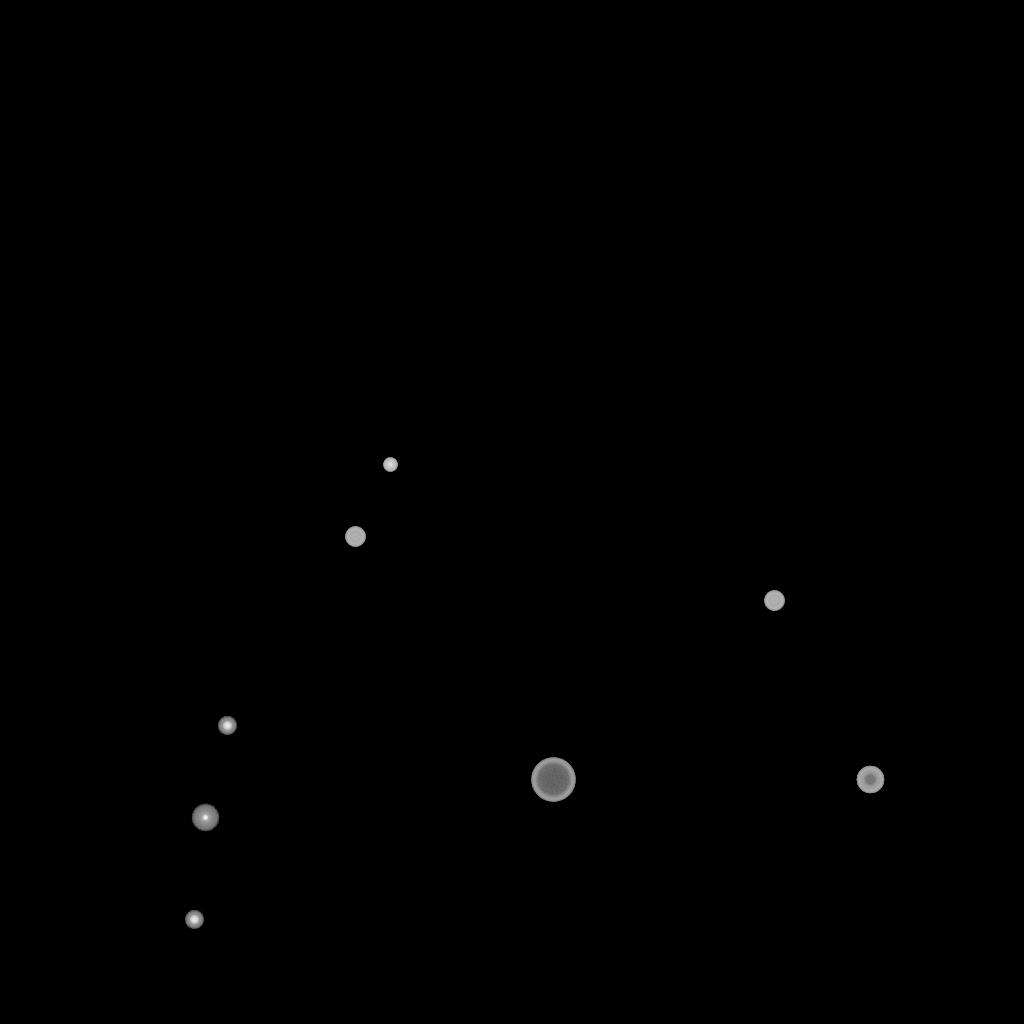depth:-10: (191, 804, 219, 832)
depth:-20: (185, 911, 203, 929), (218, 717, 236, 735)
depth:-30: (383, 458, 397, 472)
depth:-40: (764, 591, 784, 611), (345, 527, 365, 547)
depth:-50: (856, 766, 884, 794)
depth:-70: (531, 758, 575, 802)
